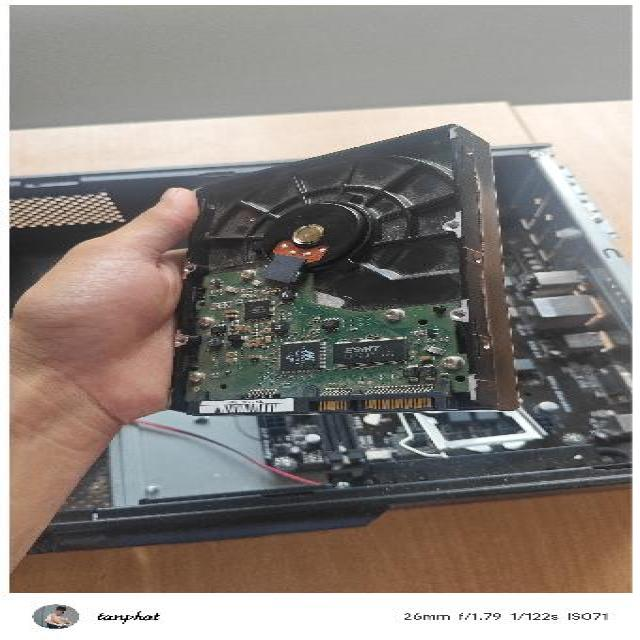DISK: (144, 124, 530, 418)
